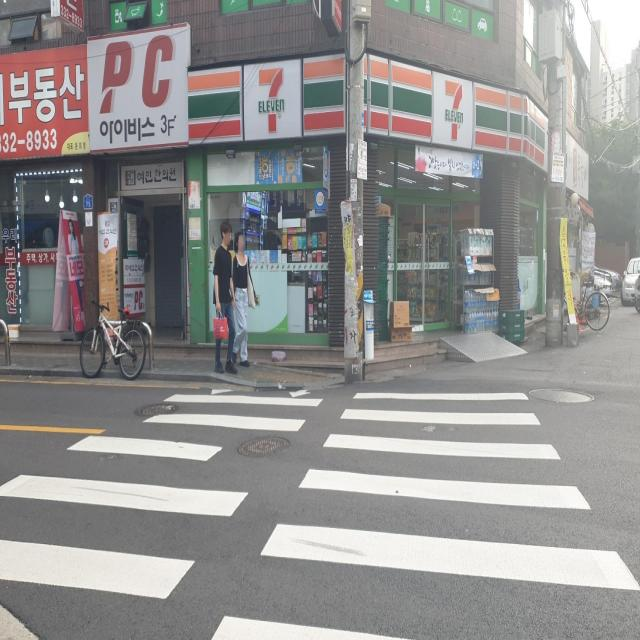횡단보도: (1, 390, 640, 640)
